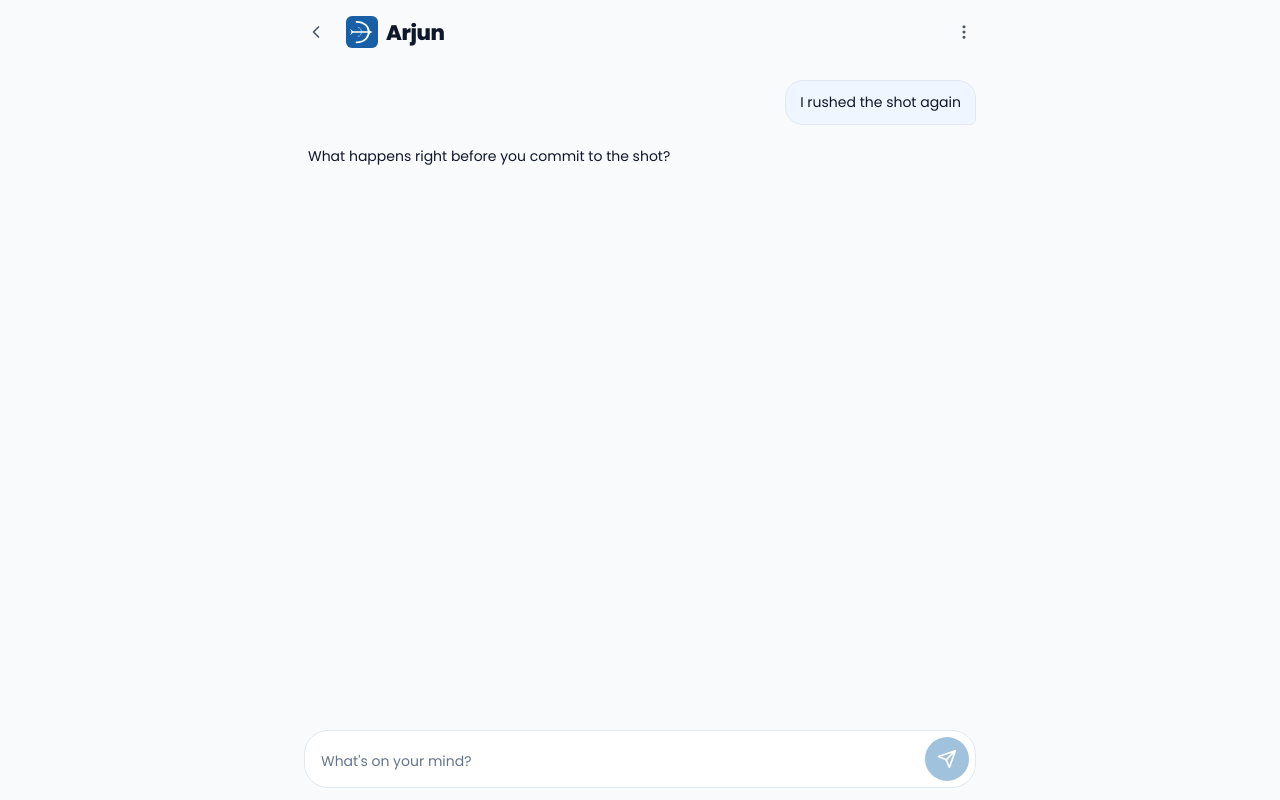
Test: Coach — immersive shell › the safety note and India helplines stay reachable from the header
This screenshot has width=1280, height=800.
Expected: the text "What happens right before you commit to the shot?" is shown, [308,146,670,166]
Click the button named "More options" at (964, 32), box [942,10,986,54]
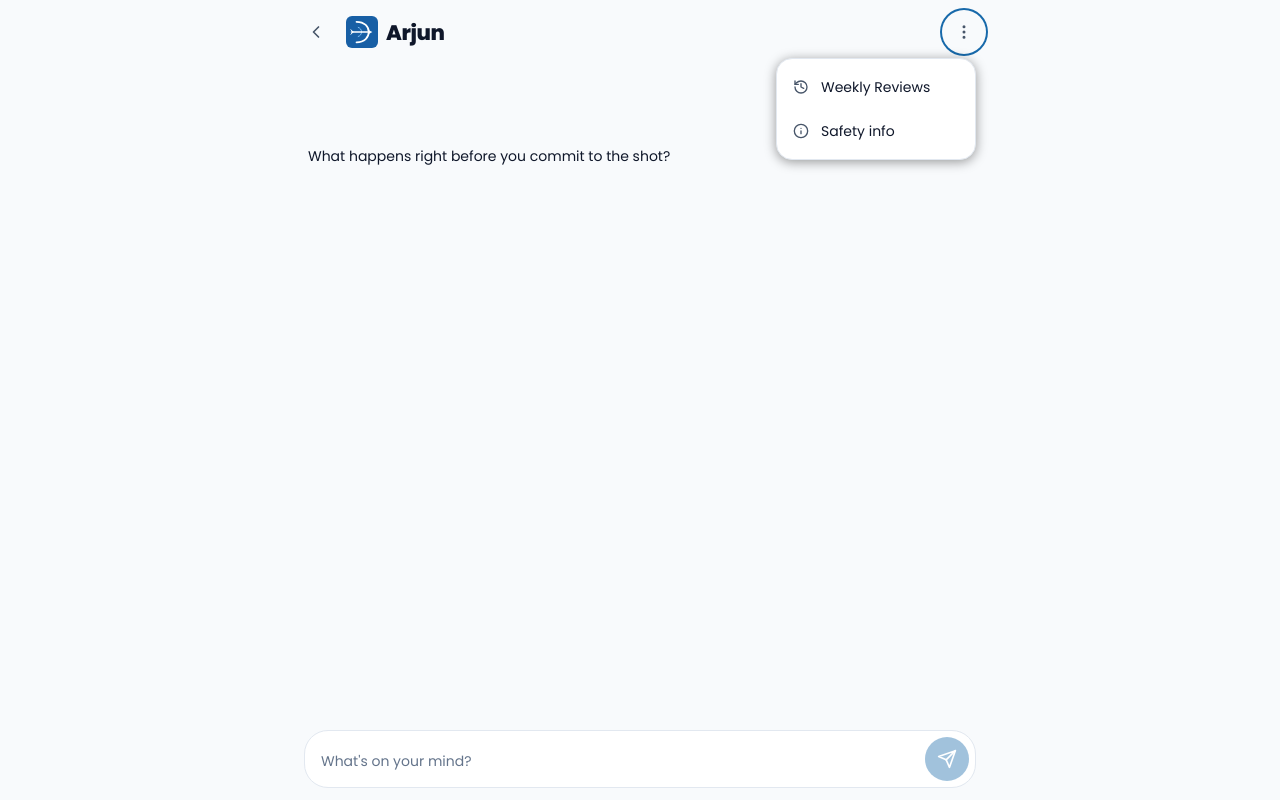
Click the button labelled "Safety info" at (876, 131), box [777,109,975,153]
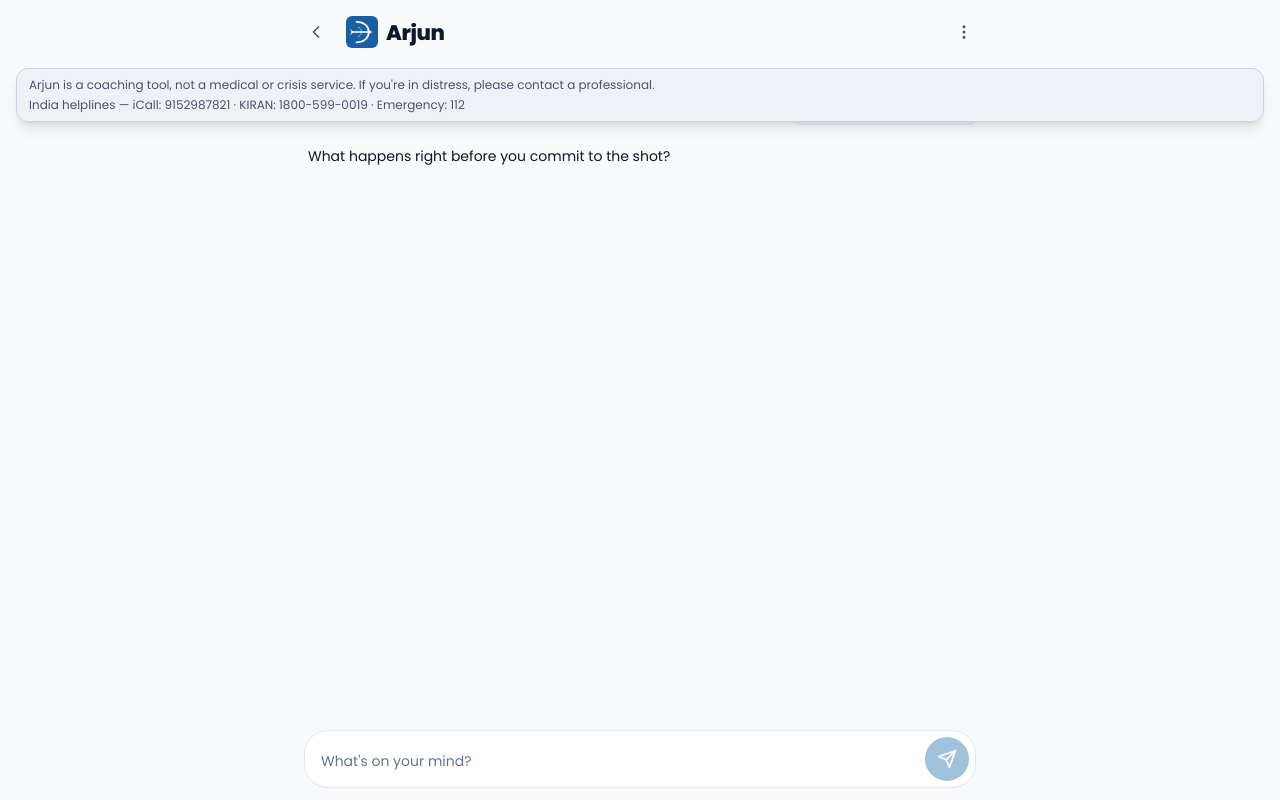
Result: the text "not a medical or crisis service" is shown at [29,76,654,93]
Result: the text "KIRAN: 1800-599-0019" is shown at [29,96,465,113]
